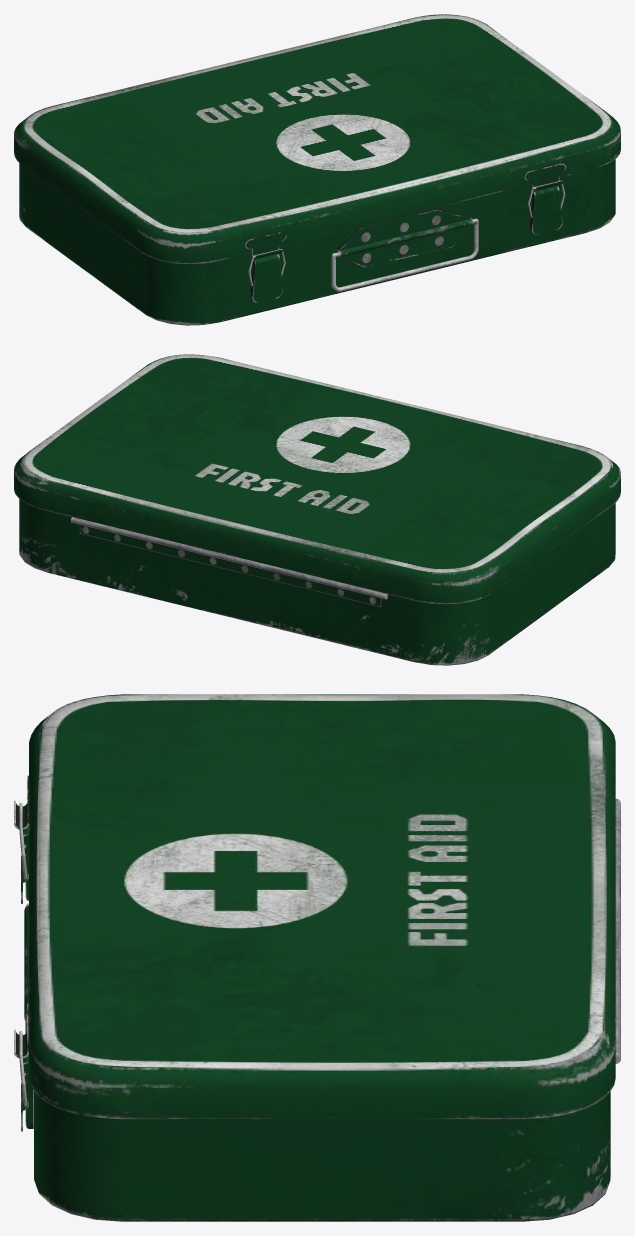
Rendered from medical_box.gltf.
The picture shows the model from 3 angles, top to bottom: view 1: azimuth 30°, elevation 25°; view 2: azimuth 150°, elevation 25°; view 3: azimuth 270°, elevation 25°; orthographic projection. The views are drawn at different scales.
Visible parts, largest first — view 1: medical_box_lid, medical_box, medical_box_latch, medical_box_handle; view 2: medical_box_lid, medical_box; view 3: medical_box_lid, medical_box.
Boxes of the visible parts, box(x1,y1,x2,y2) form: medical_box_lid: box(14, 14, 620, 263); medical_box: box(19, 159, 615, 325); medical_box_latch: box(251, 185, 562, 302); medical_box_handle: box(331, 218, 478, 291); medical_box_lid: box(14, 354, 620, 603); medical_box: box(19, 499, 615, 665); medical_box_lid: box(14, 694, 615, 1118); medical_box: box(24, 798, 620, 1221).
Bounding box in the file's own units: 0.5255 × 0.0975 × 0.3502.
1 material, 1 textured.
